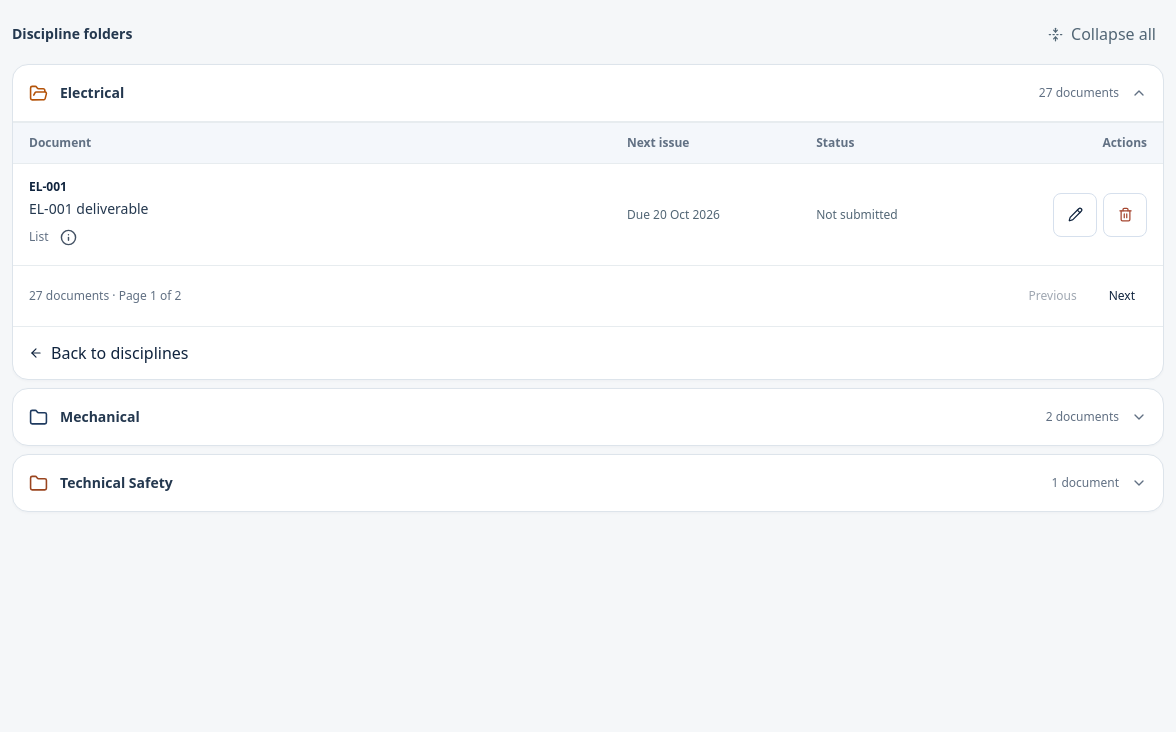
Test: provides a clearly named route back to discipline summaries
This screenshot has width=1176, height=732.
Click the button with aria-label "Close Electrical folder": click(109, 353) [29, 331, 188, 375]
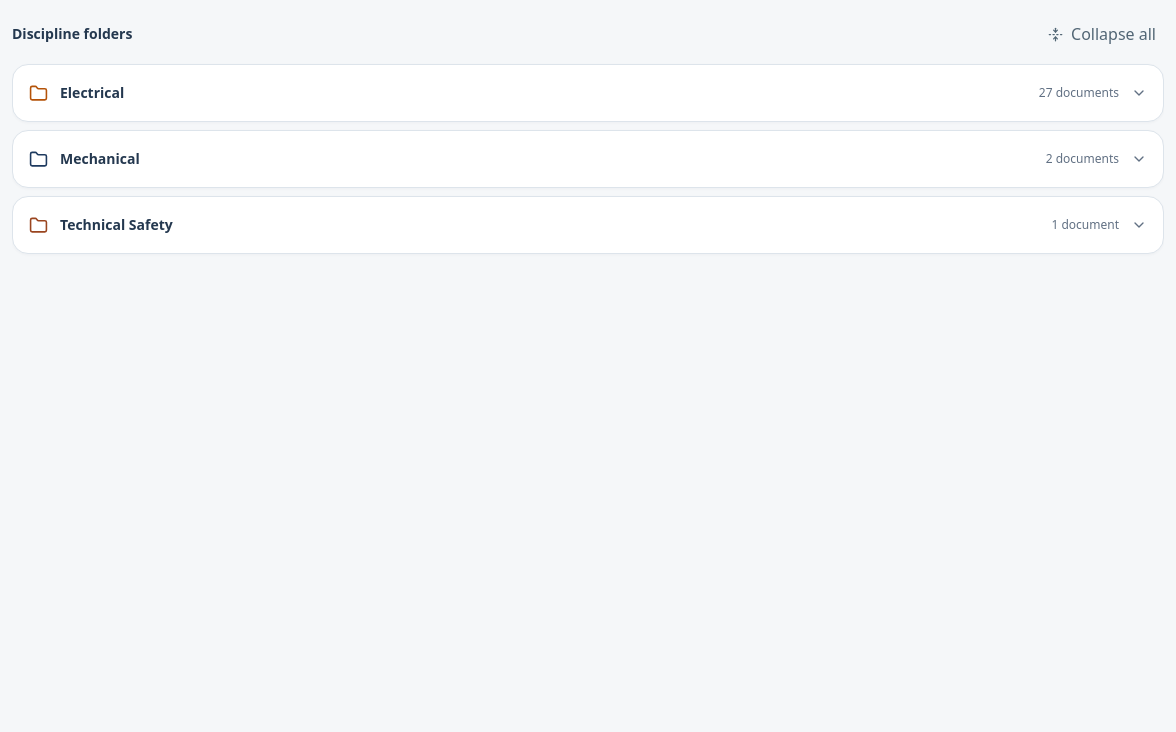
Result: no links "EL-001" are shown
